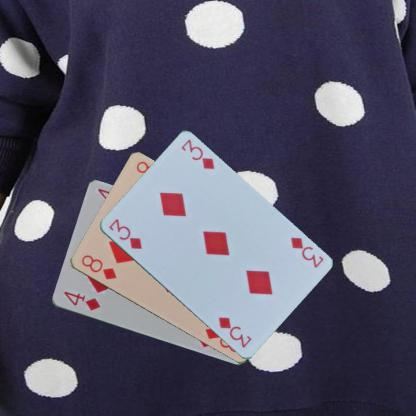3d: (287, 234, 325, 269), (106, 216, 143, 251)
4d: (59, 288, 103, 312)
8d: (78, 252, 118, 282)
